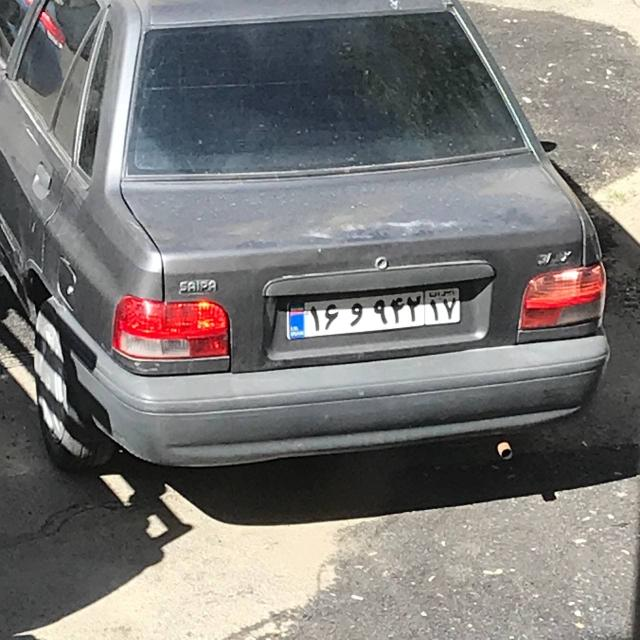Plates: (286, 284, 463, 340)
